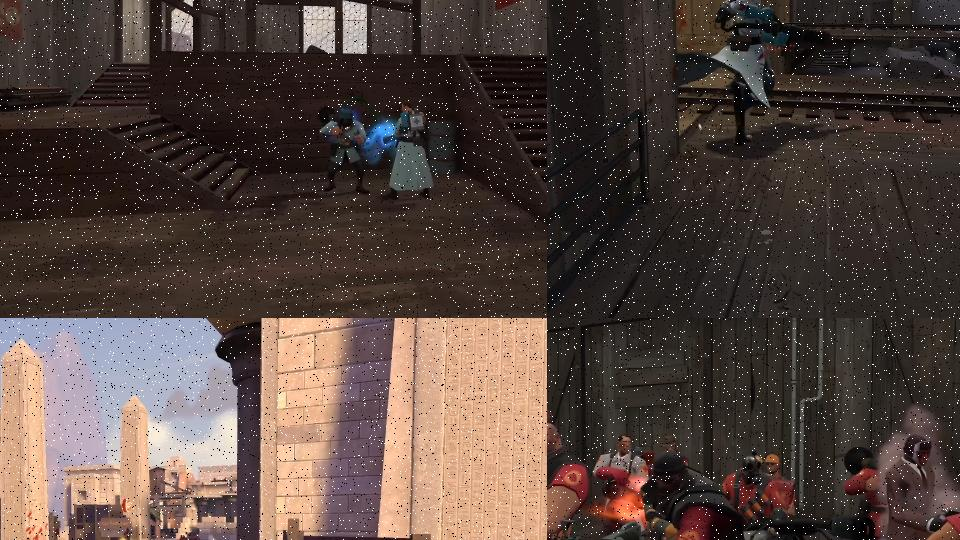Enemy: (679, 0, 836, 147), (598, 440, 814, 540), (717, 444, 813, 540), (879, 426, 947, 540), (315, 103, 375, 198), (381, 101, 436, 201), (841, 438, 894, 540), (594, 433, 650, 516), (762, 452, 786, 478), (122, 526, 131, 540), (189, 532, 202, 540), (177, 534, 189, 540)
